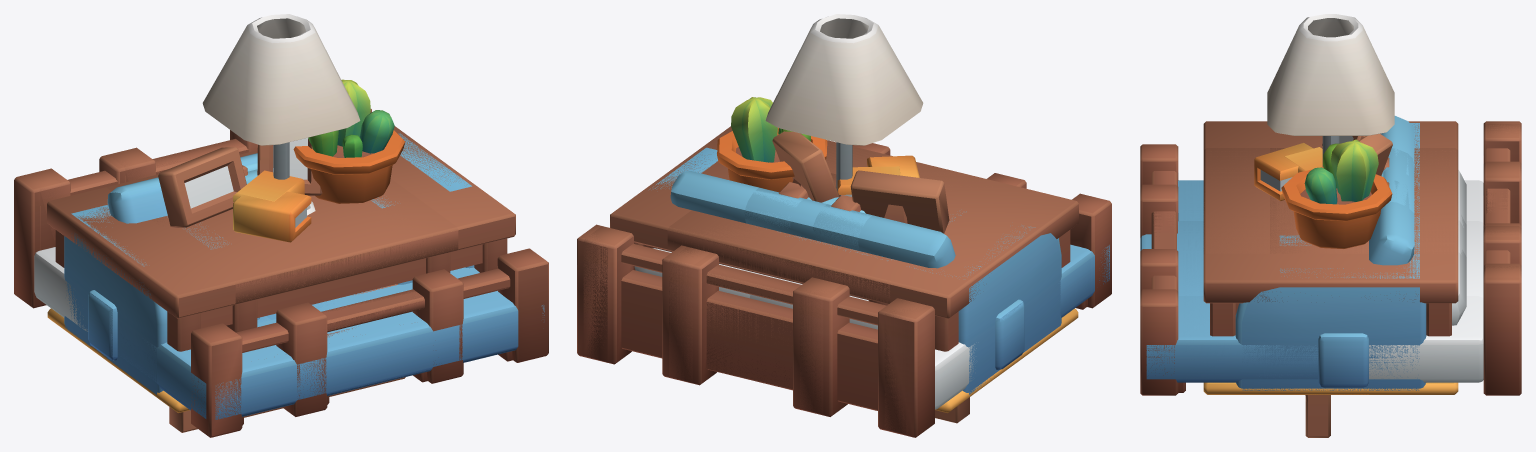
Rendered from furniture.glb.
3 views of the same model, side by side, from view 1: azimuth 30°, elevation 25°; view 2: azimuth 150°, elevation 25°; view 3: azimuth 270°, elevation 25° (orthographic). The views are drawn at different scales.
Parts seen in each view (by area): view 1: table_medium_long, bed_double_A, bed_double_B, lamp_standing, cabinet_medium_decorated, table_medium, couch, bed_single_B, bed_single_A, cabinet_small_decorated, rug_rectangle_A, pictureframe_large_B (+1 smaller); view 2: bed_double_A, bed_double_B, table_medium_long, couch, lamp_standing, bed_single_A, cabinet_medium_decorated, bed_single_B, table_medium, armchair, cabinet_small_decorated, rug_rectangle_A (+1 smaller); view 3: table_medium_long, bed_double_A, couch, bed_double_B, lamp_standing, table_medium, cabinet_medium_decorated, bed_single_B, bed_single_A, cabinet_small_decorated, cabinet_medium, rug_rectangle_A (+3 smaller).
Part boxes in pixels (x1=…): table_medium_long: x1=47, y1=126, x2=515, y2=351; bed_double_A: x1=28, y1=139, x2=544, y2=425; bed_double_B: x1=14, y1=109, x2=548, y2=437; lamp_standing: x1=202, y1=14, x2=360, y2=179; cabinet_medium_decorated: x1=158, y1=79, x2=404, y2=227; table_medium: x1=106, y1=150, x2=458, y2=332; couch: x1=64, y1=133, x2=474, y2=394; bed_single_B: x1=99, y1=139, x2=463, y2=416; bed_single_A: x1=108, y1=130, x2=459, y2=404; cabinet_small_decorated: x1=233, y1=137, x2=322, y2=242; rug_rectangle_A: x1=47, y1=308, x2=189, y2=412; pictureframe_large_B: x1=169, y1=377, x2=405, y2=432; bed_double_A: x1=583, y1=226, x2=1109, y2=434; bed_double_B: x1=577, y1=193, x2=1111, y2=437; table_medium_long: x1=610, y1=126, x2=1078, y2=351; couch: x1=649, y1=147, x2=1061, y2=394; lamp_standing: x1=765, y1=14, x2=923, y2=196; bed_single_A: x1=669, y1=247, x2=841, y2=414; cabinet_medium_decorated: x1=717, y1=97, x2=949, y2=233; bed_single_B: x1=662, y1=143, x2=1026, y2=416; table_medium: x1=667, y1=140, x2=992, y2=305; armchair: x1=744, y1=187, x2=966, y2=260; cabinet_small_decorated: x1=772, y1=131, x2=919, y2=202; rug_rectangle_A: x1=935, y1=308, x2=1078, y2=412; table_medium_long: x1=1203, y1=121, x2=1458, y2=336; bed_double_A: x1=1140, y1=124, x2=1521, y2=392; couch: x1=1235, y1=116, x2=1426, y2=390; bed_double_B: x1=1140, y1=121, x2=1521, y2=395; lamp_standing: x1=1267, y1=14, x2=1394, y2=166; table_medium: x1=1203, y1=148, x2=1458, y2=254; cabinet_medium_decorated: x1=1281, y1=136, x2=1392, y2=248; bed_single_B: x1=1140, y1=161, x2=1521, y2=297; bed_single_A: x1=1140, y1=165, x2=1521, y2=295; cabinet_small_decorated: x1=1254, y1=134, x2=1392, y2=200; cabinet_medium: x1=1270, y1=148, x2=1368, y2=253; rug_rectangle_A: x1=1203, y1=382, x2=1458, y2=394.
Size of the model in its own units: 3.1 by 3.12 by 3.
Materials: 1 (1 with a texture image).
